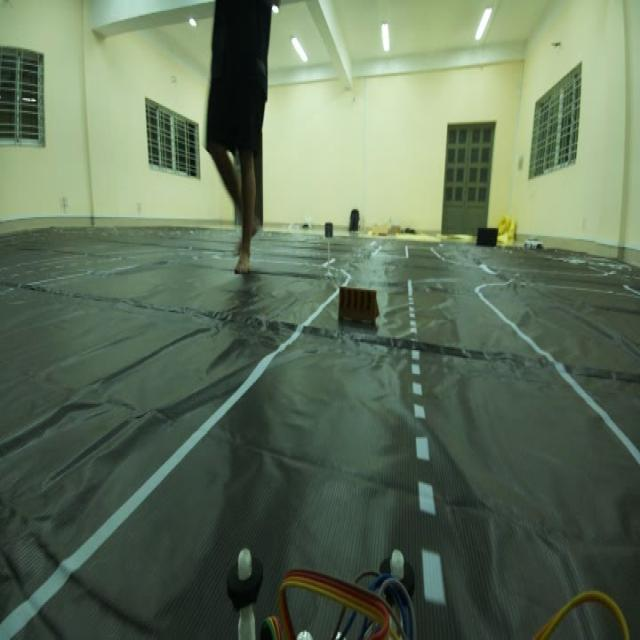roadblock: (332, 276, 388, 339)
